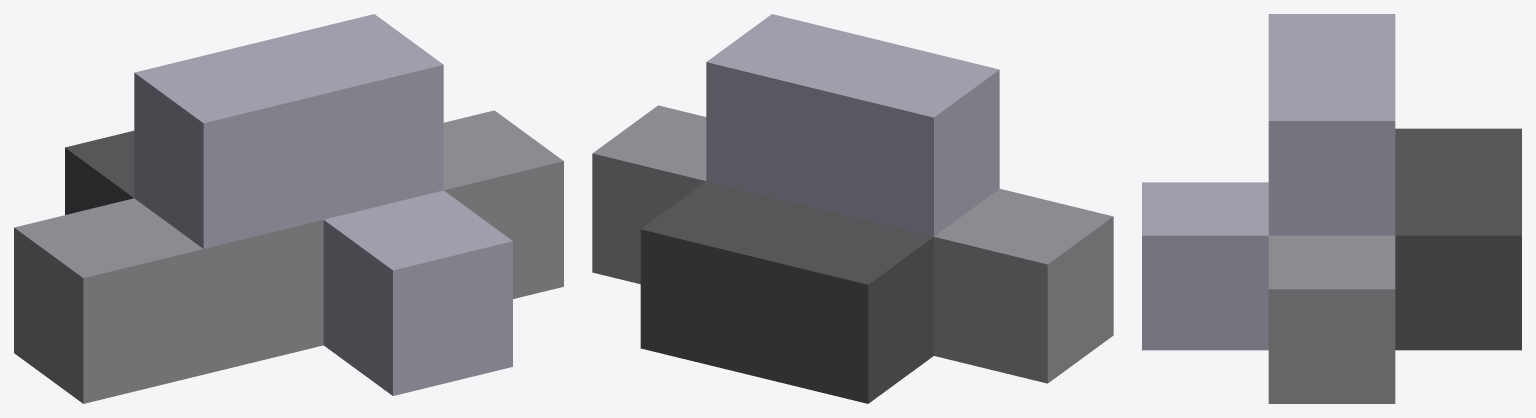
The model's file is Cailloux3.obj.
The picture shows the model from 3 angles, left to right: view 1: azimuth 30°, elevation 25°; view 2: azimuth 150°, elevation 25°; view 3: azimuth 270°, elevation 25°; orthographic projection. The views are drawn at different scales.
Size of the model in its own units: 4 by 2 by 3.
1 material, 1 textured.
